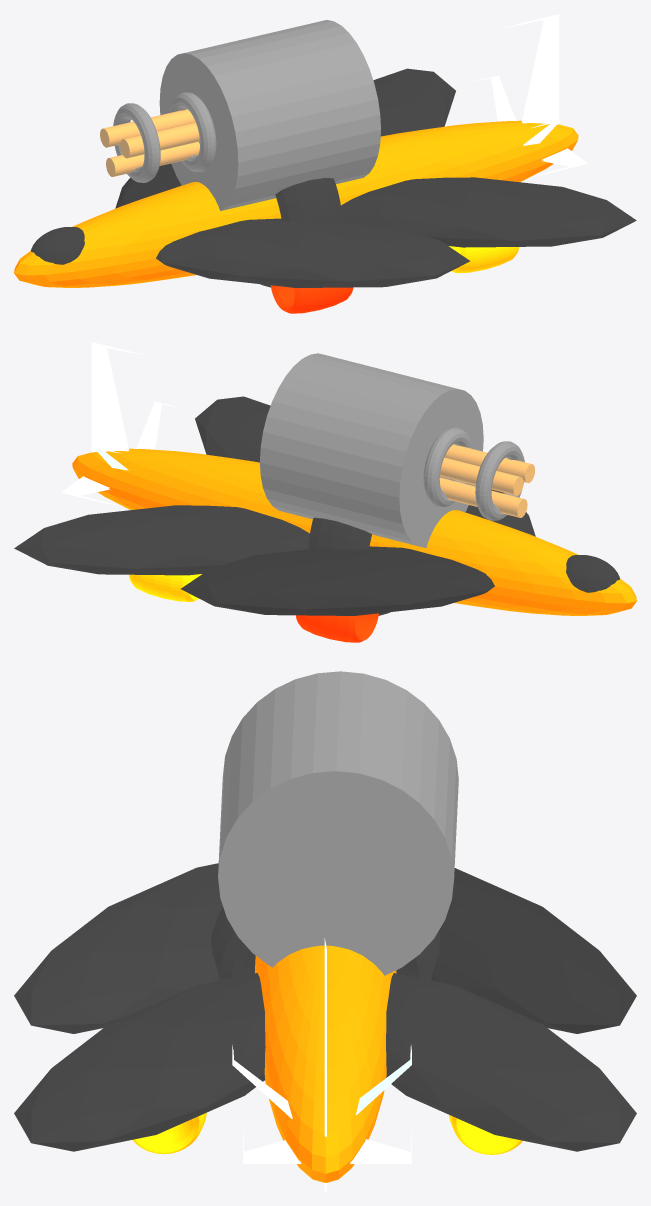
3 views of the same model, one above another, from view 1: azimuth 30°, elevation 25°; view 2: azimuth 150°, elevation 25°; view 3: azimuth 270°, elevation 25° (orthographic). The views are drawn at different scales.
Visible parts, largest first — view 1: Gun Body, Sphere.001, Icosphere, Icosphere.003, Icosphere.002, Cube.003, Torus.003, Torus.008, Torus.009, Torus.001, Sphere, Gun Barrel 1 (+6 smaller); view 2: Gun Body, Sphere.001, Icosphere.001, Icosphere.002, Icosphere.003, Cube.003, Torus.002, Torus.008, Torus.009, Torus.003, Sphere, Gun Barrel 3 (+6 smaller); view 3: Gun Body, Icosphere.003, Icosphere.002, Sphere.001, Icosphere, Icosphere.001, Torus.003, Torus.005, Torus.004, Cube.002, Cube.
Boxes of the visible parts, x1=… form: Gun Body: x1=159, y1=20, x2=380, y2=210; Sphere.001: x1=14, y1=120, x2=578, y2=287; Icosphere: x1=156, y1=218, x2=470, y2=287; Icosphere.003: x1=341, y1=177, x2=636, y2=247; Icosphere.002: x1=373, y1=68, x2=455, y2=136; Cube.003: x1=503, y1=14, x2=559, y2=124; Torus.003: x1=261, y1=178, x2=342, y2=287; Torus.008: x1=113, y1=103, x2=160, y2=182; Torus.009: x1=169, y1=92, x2=216, y2=171; Torus.001: x1=270, y1=285, x2=353, y2=313; Sphere: x1=31, y1=227, x2=84, y2=264; Gun Barrel 1: x1=100, y1=109, x2=195, y2=147; Gun Body: x1=260, y1=353, x2=483, y2=547; Sphere.001: x1=72, y1=448, x2=636, y2=615; Icosphere.001: x1=181, y1=546, x2=494, y2=615; Icosphere.002: x1=14, y1=505, x2=309, y2=575; Icosphere.003: x1=195, y1=396, x2=270, y2=462; Cube.003: x1=91, y1=342, x2=146, y2=452; Torus.002: x1=296, y1=613, x2=378, y2=642; Torus.008: x1=475, y1=441, x2=524, y2=520; Torus.009: x1=423, y1=427, x2=472, y2=507; Torus.003: x1=308, y1=517, x2=390, y2=615; Sphere: x1=566, y1=555, x2=619, y2=592; Gun Barrel 3: x1=439, y1=477, x2=527, y2=517; Gun Body: x1=218, y1=671, x2=458, y2=975; Icosphere.003: x1=14, y1=973, x2=265, y2=1151; Icosphere.002: x1=386, y1=973, x2=636, y2=1151; Sphere.001: x1=255, y1=945, x2=396, y2=1182; Icosphere: x1=14, y1=863, x2=255, y2=1033; Icosphere.001: x1=431, y1=868, x2=636, y2=1033; Torus.003: x1=210, y1=907, x2=440, y2=980; Torus.005: x1=132, y1=1112, x2=206, y2=1154; Torus.004: x1=449, y1=1115, x2=522, y2=1154; Cube.002: x1=350, y1=1126, x2=411, y2=1163; Cube: x1=243, y1=1125, x2=301, y2=1163.
Size of the model in its own units: 8 by 3.22 by 5.28.
